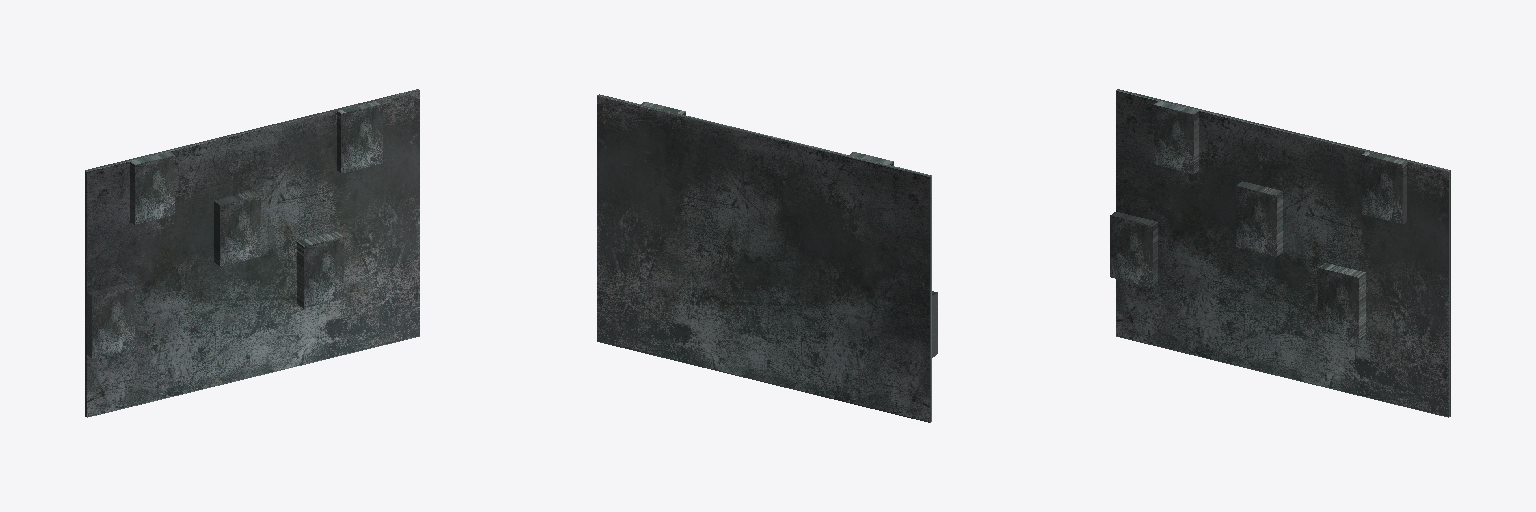
The picture shows the model from 3 angles: view 1: azimuth 30°, elevation 25°; view 2: azimuth 150°, elevation 25°; view 3: azimuth 330°, elevation 25°; orthographic projection.
Parts seen in each view (by area): view 1: polySurface69 polySurface17; view 2: polySurface69 polySurface17; view 3: polySurface69 polySurface17.
Part boxes in pixels (left/top/right/bottom): polySurface69 polySurface17: left=85, top=89, right=419, bottom=417; polySurface69 polySurface17: left=597, top=94, right=937, bottom=422; polySurface69 polySurface17: left=1110, top=89, right=1450, bottom=417.
Bounding box in the file's own units: 3.71 × 2.61 × 0.1816.
Materials: 1 (1 with a texture image).